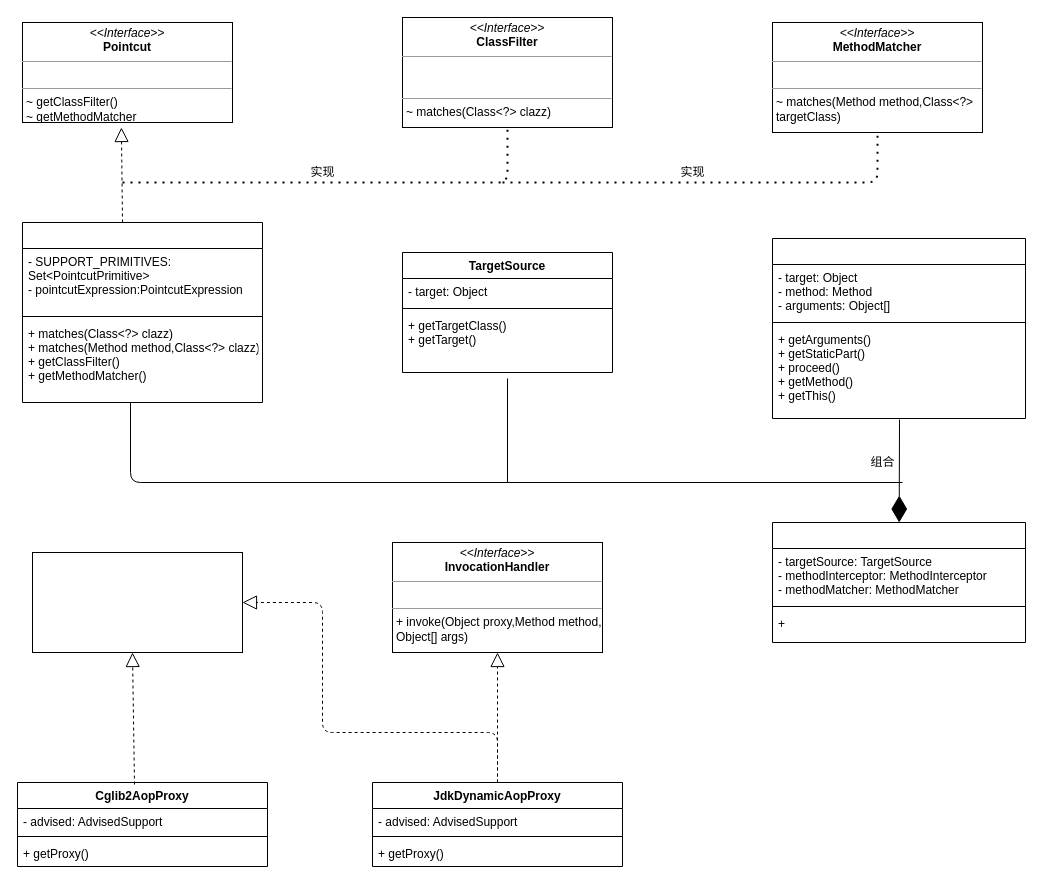
Image size: 1043x887. Some labels were removed from this diagram. Here are the shapes that lost their labels. From the top down, the box of each, then its label:
(22, 222, 262, 402): AspectJExpressPointcut
(772, 238, 1026, 418): ReflectiveMethodInvocation
(32, 552, 242, 652): <<Interface>> AopProxy ~ getProxy()
(772, 522, 1026, 642): AdviceSupport
